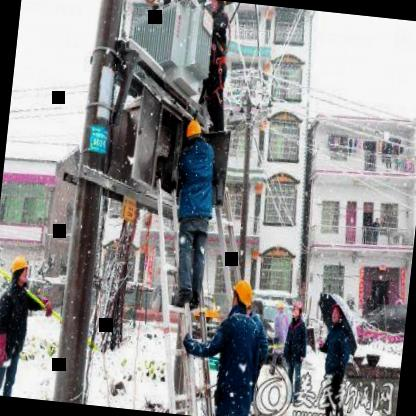helmet: (228, 276, 256, 317), (8, 250, 32, 286), (182, 114, 205, 148), (288, 298, 304, 320), (205, 0, 228, 15)
